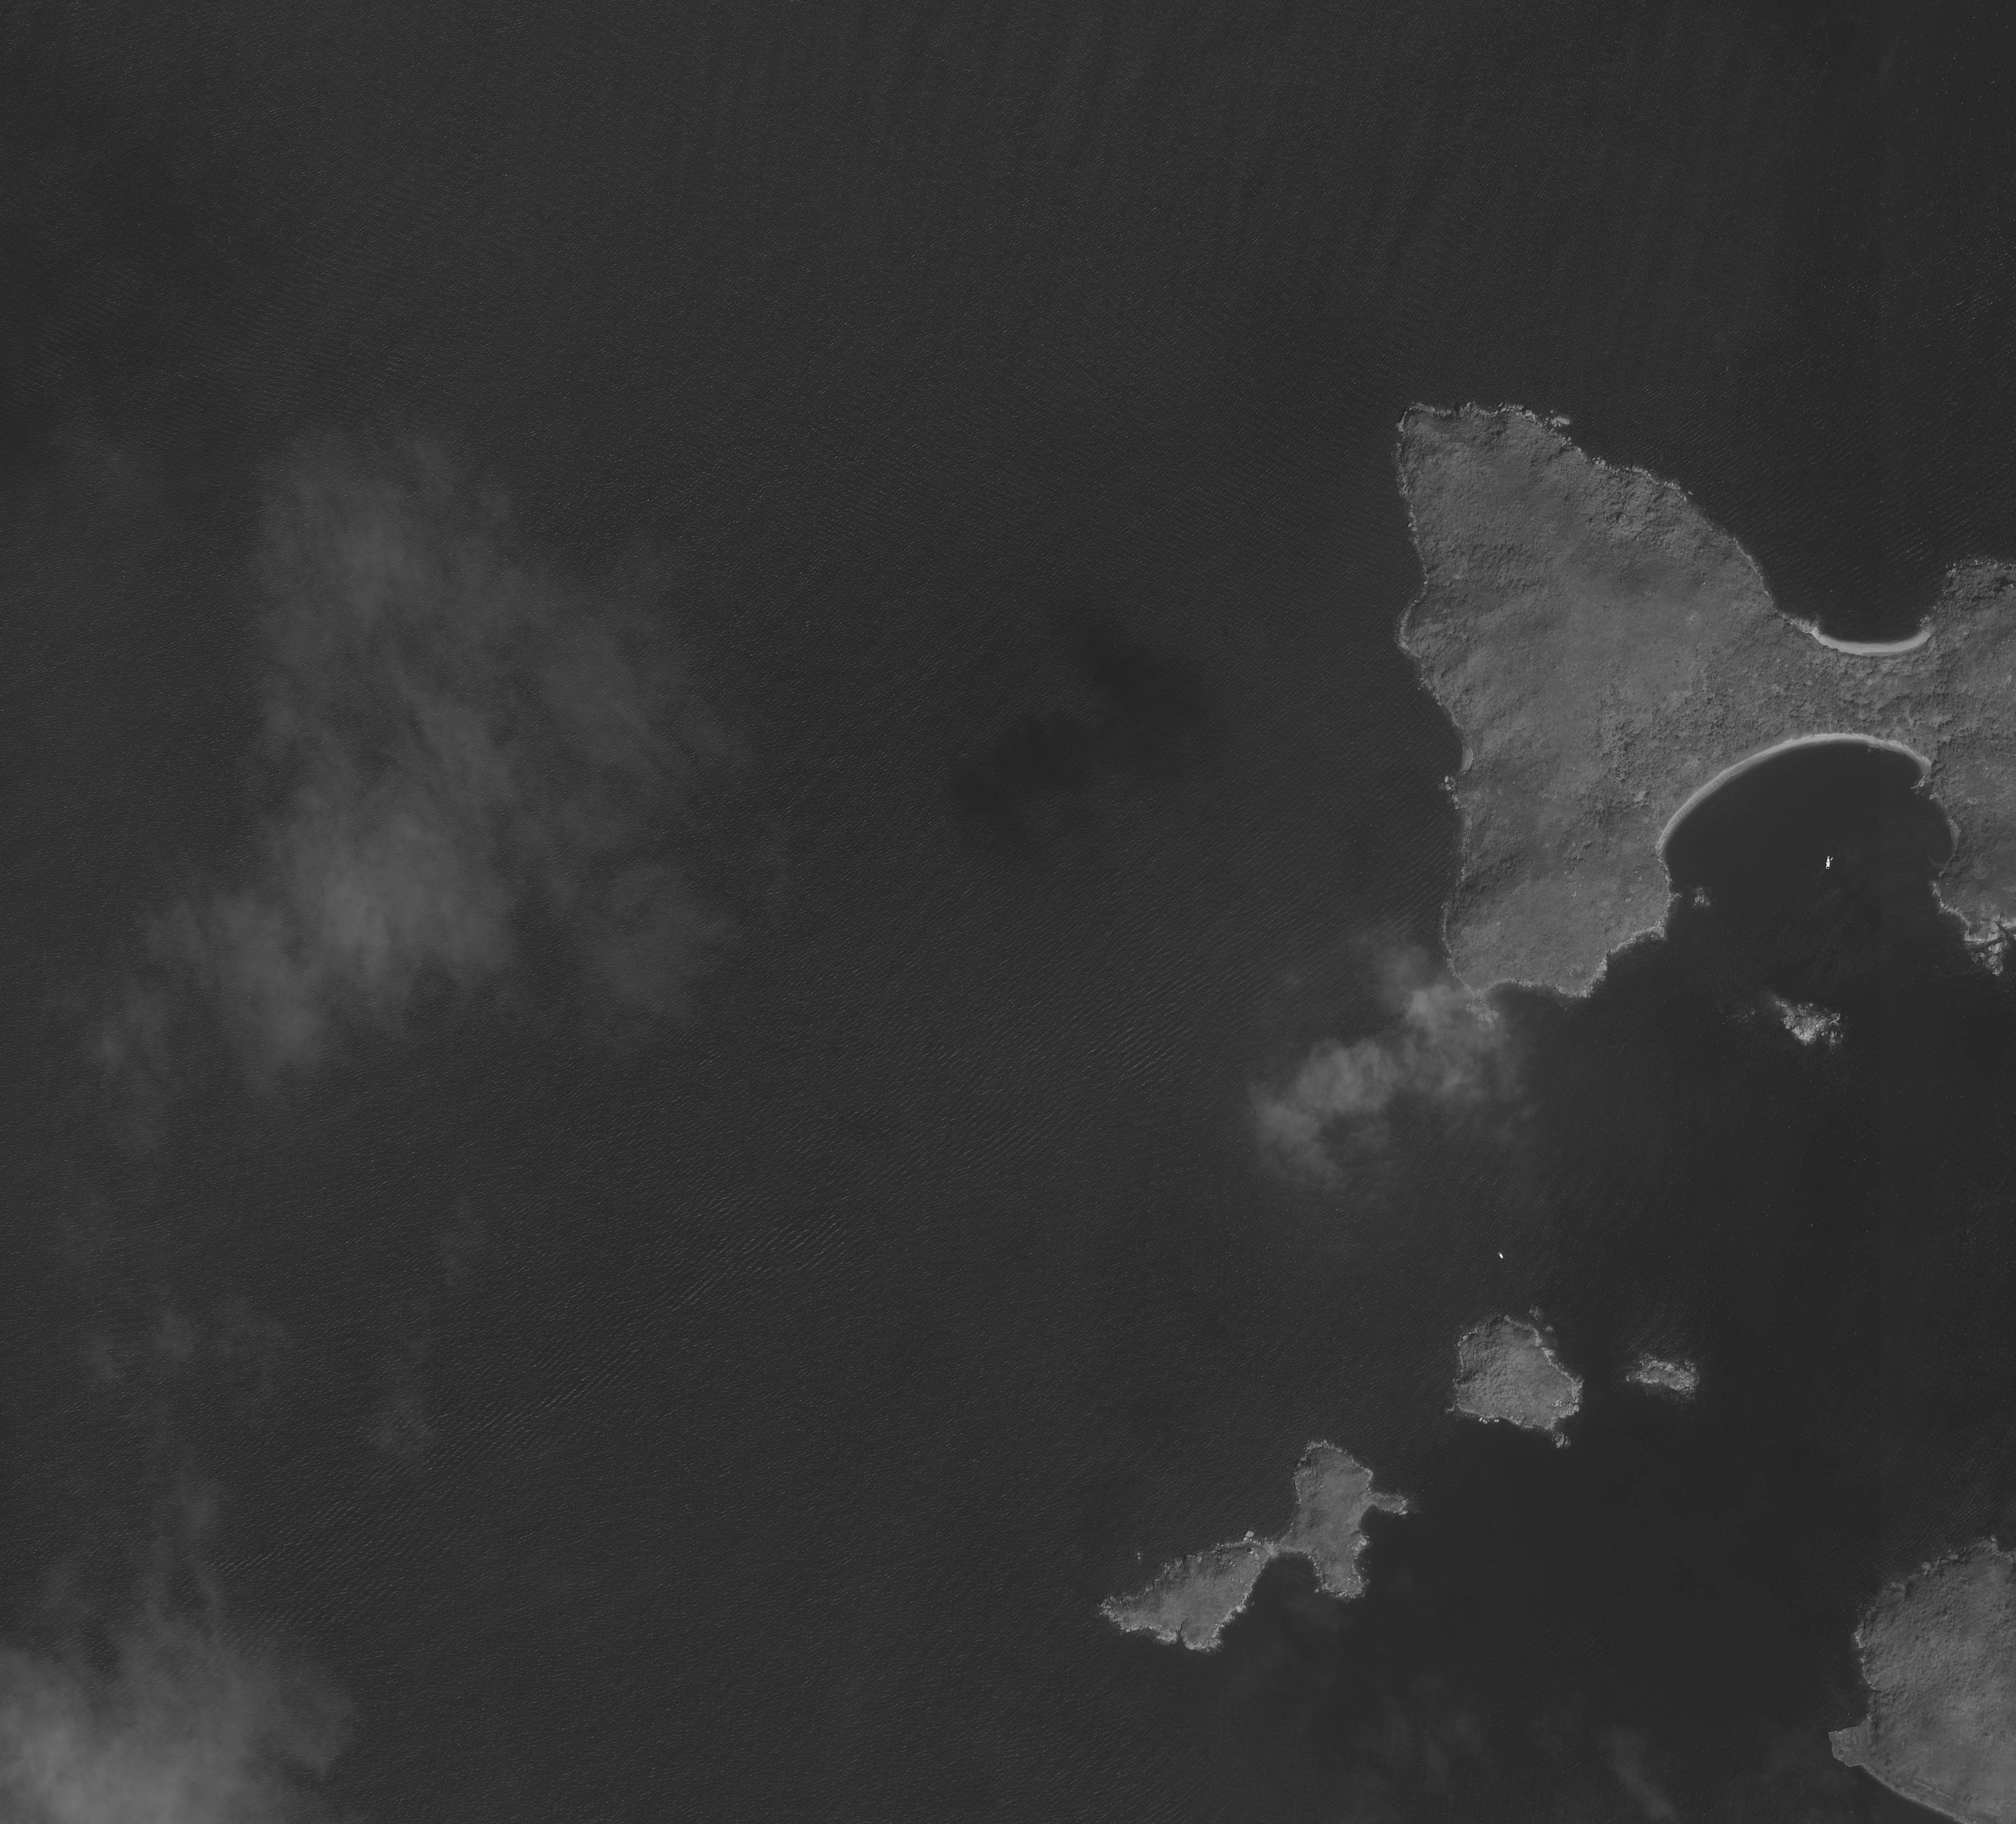ship: (1825, 857, 1833, 871), (1496, 1250, 1505, 1260)
